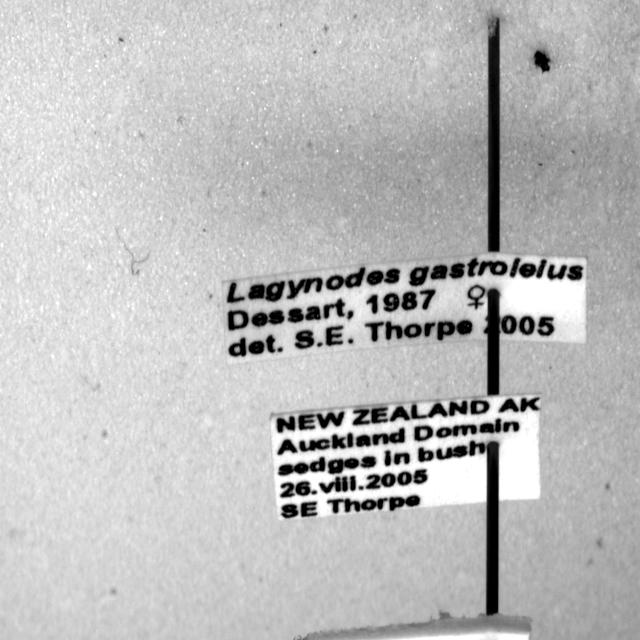typed_label: (222, 253, 586, 364), (270, 396, 540, 519)
